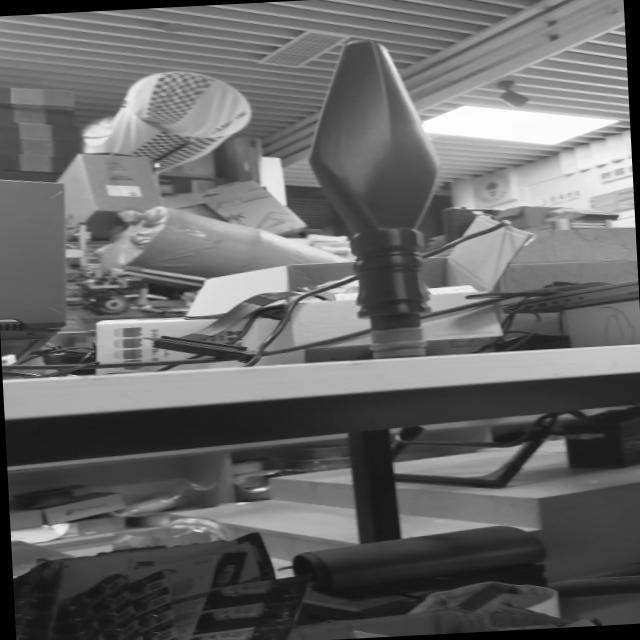base: (368, 324, 428, 360)
